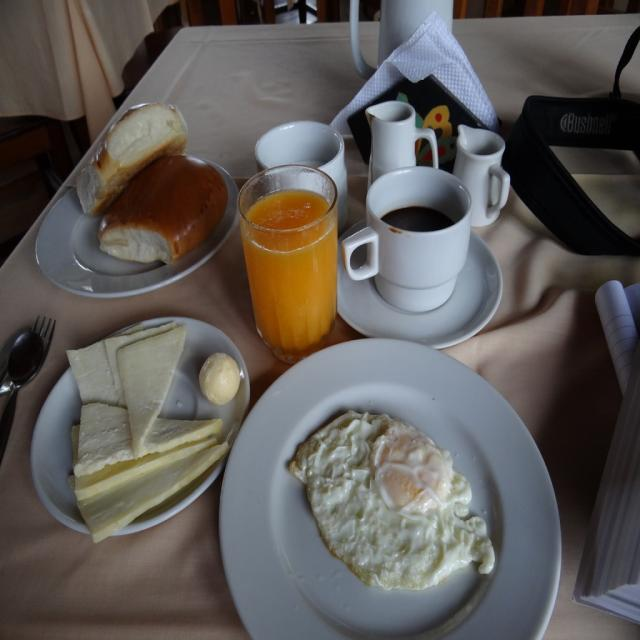Coffee: (382, 206, 454, 233)
Tea: (381, 202, 451, 233)
